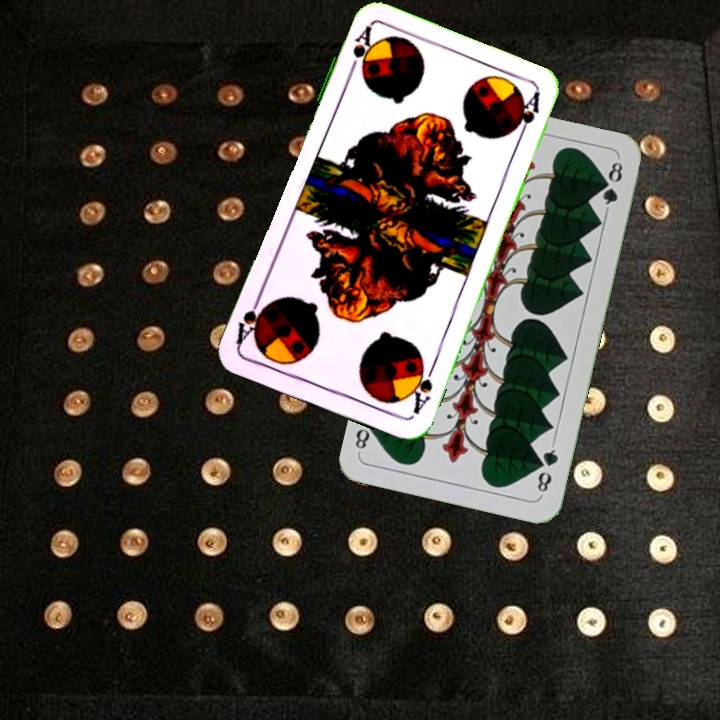G8: (533, 440, 561, 498)
SA: (405, 358, 438, 418), (343, 22, 376, 80)
